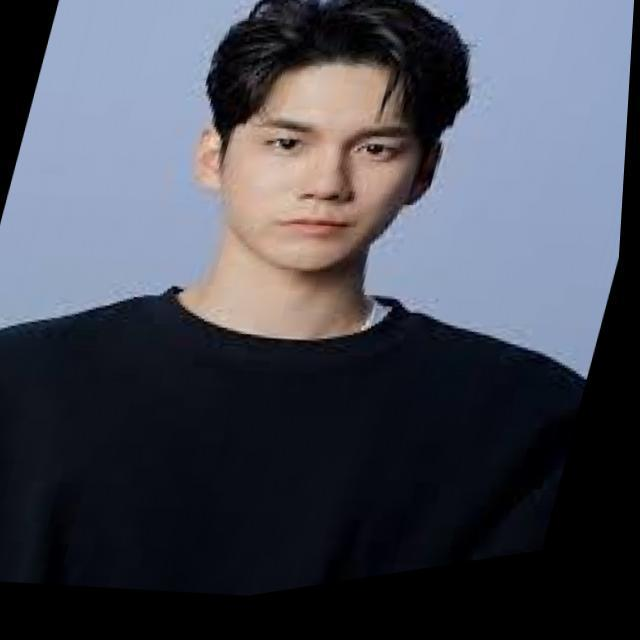Nonhelmet: (190, 0, 475, 276)
